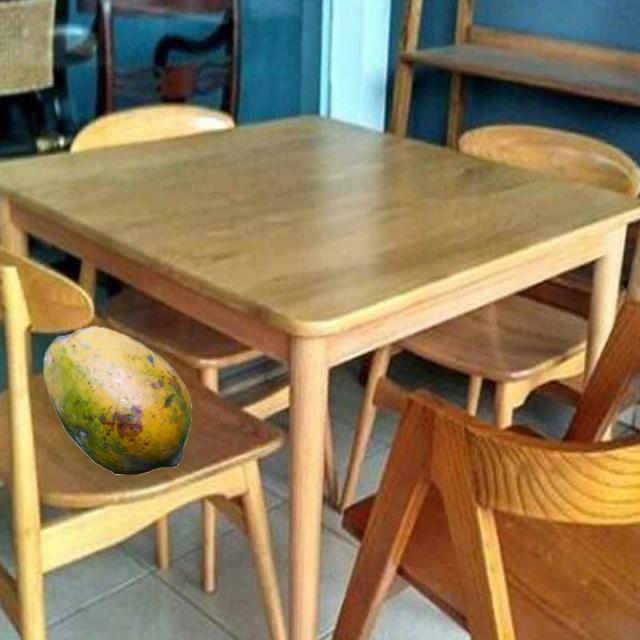Pepaya rippen: (30, 320, 194, 471)
